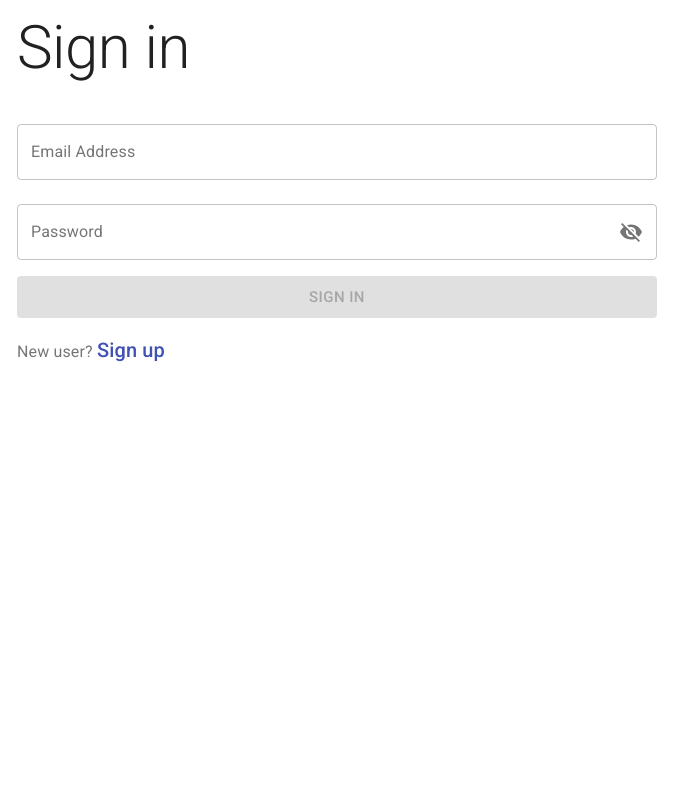
Scenario: login: failing the login process
Type "aw@tt.com" into the field at {"x": 337, "y": 152}, box x1=17 y1=124 x2=657 y2=180
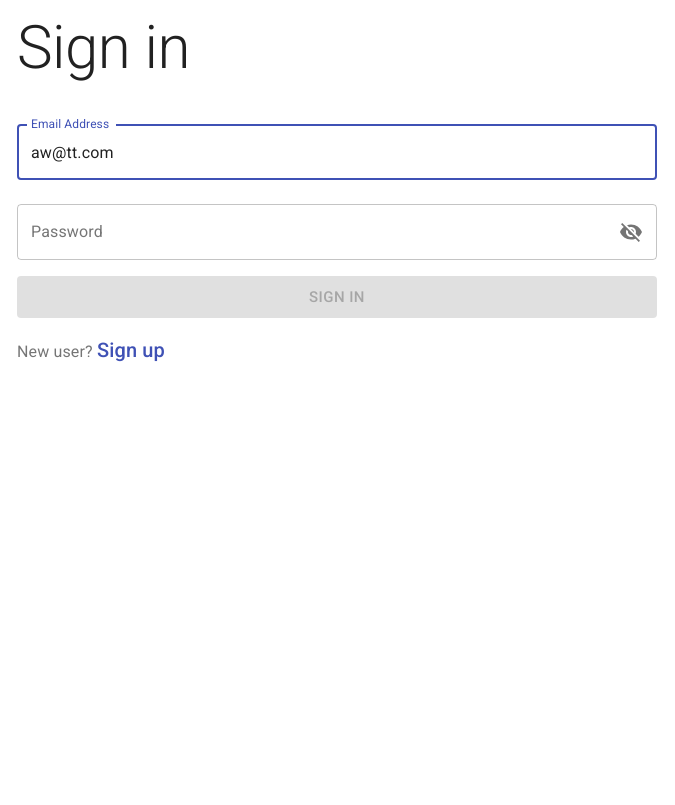
Type "123" into the password field labelled "Password" at {"x": 308, "y": 232}, box x1=17 y1=204 x2=599 y2=260
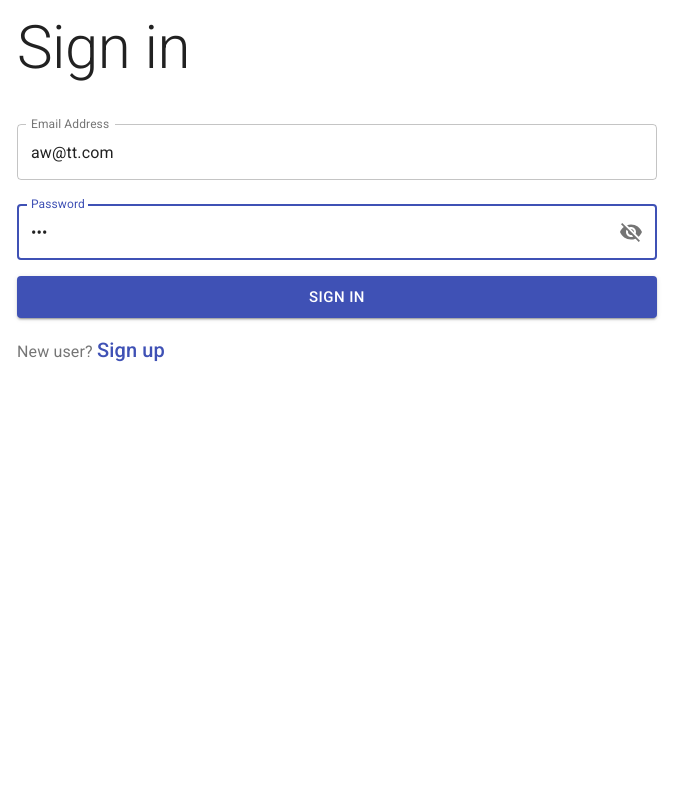
Click the button "Sign in" at {"x": 337, "y": 297}, box x1=17 y1=276 x2=657 y2=318
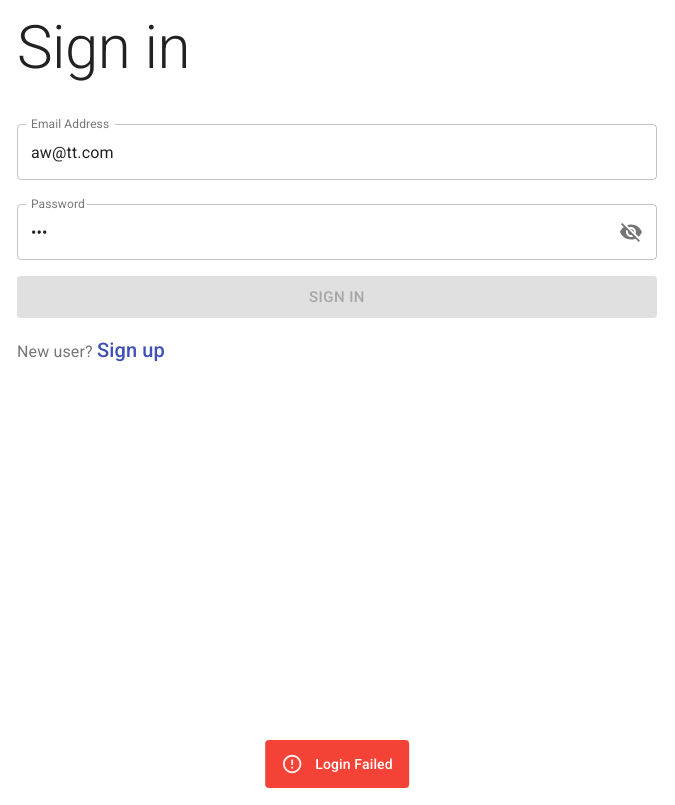
Expected: the text "Login Failed" is shown, x1=315 y1=756 x2=393 y2=772
